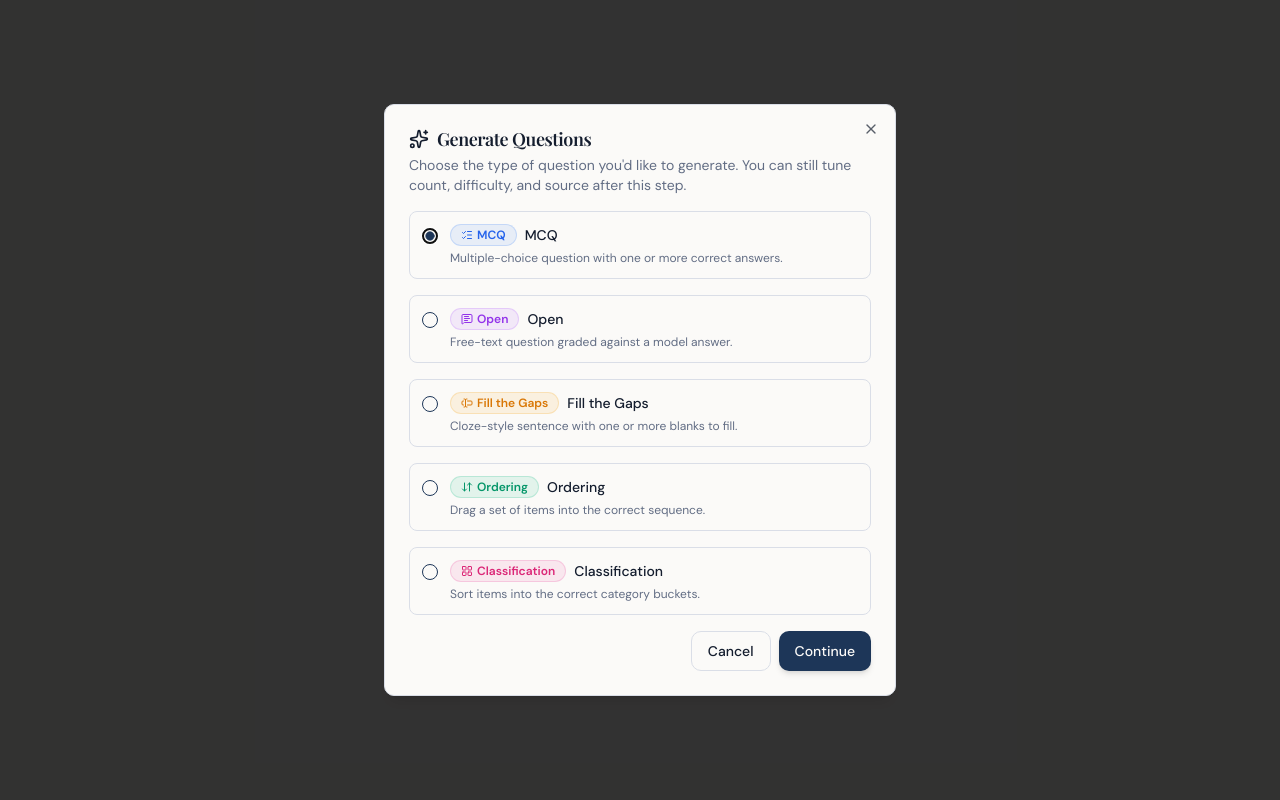
Scenario: UnifiedGenerateDialog (#630) › refuses to generate when neither a chapter nor a document is picked
The image size is (1280, 800).
Later steps or results of the test are not shown.
Step 1. Click the 4th radio button named "Ordering" → {"x": 430, "y": 488}, box [422,480,438,496]
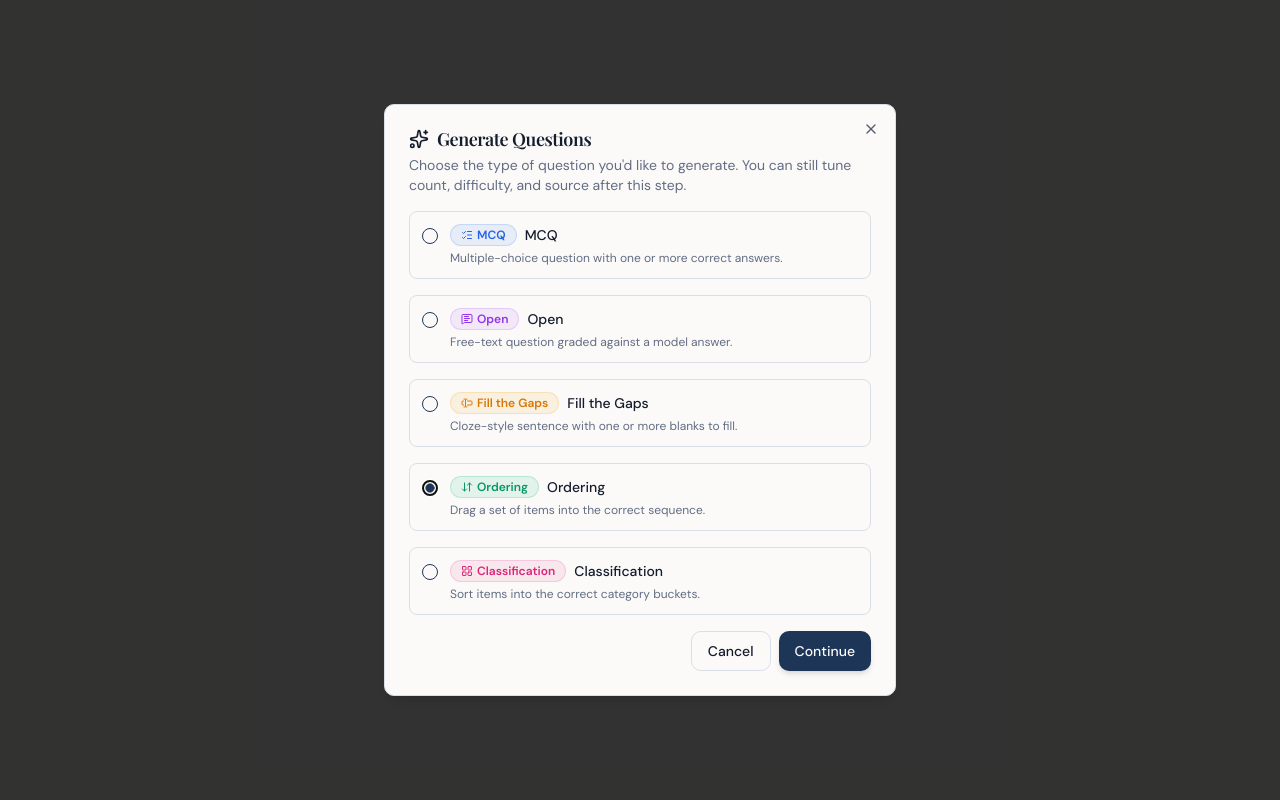
Step 2. Click the button "Continue" → {"x": 825, "y": 651}, box [778,631,871,671]
(page scrolled)
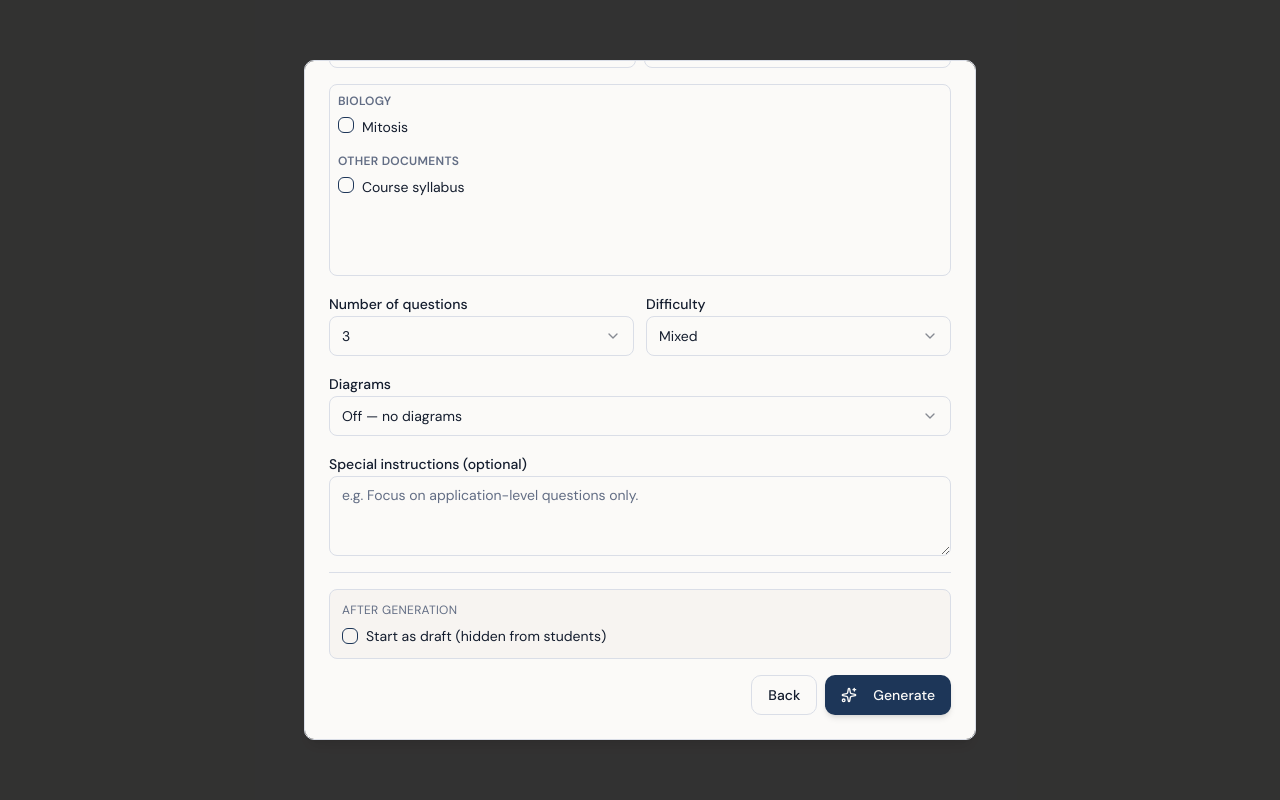
Expected: the text "Other documents" is shown, [338,153,459,169]
